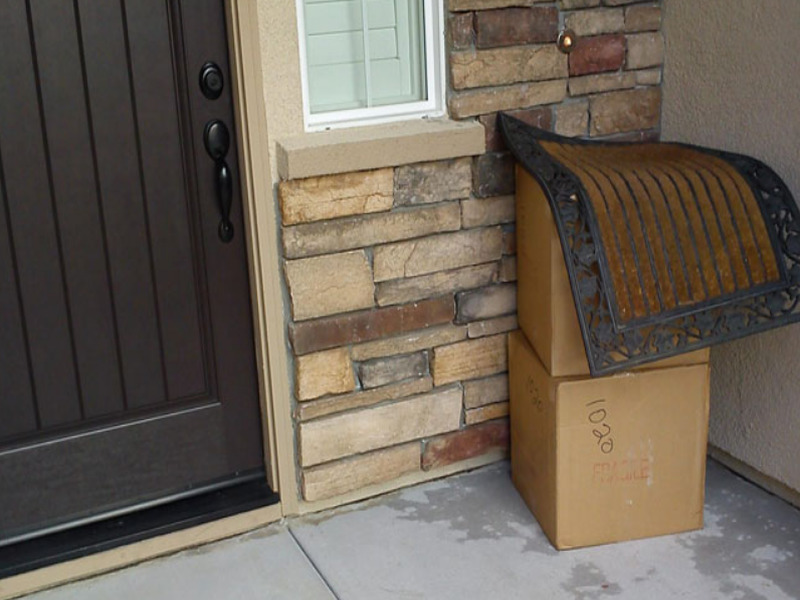package: (494, 325, 717, 557)
